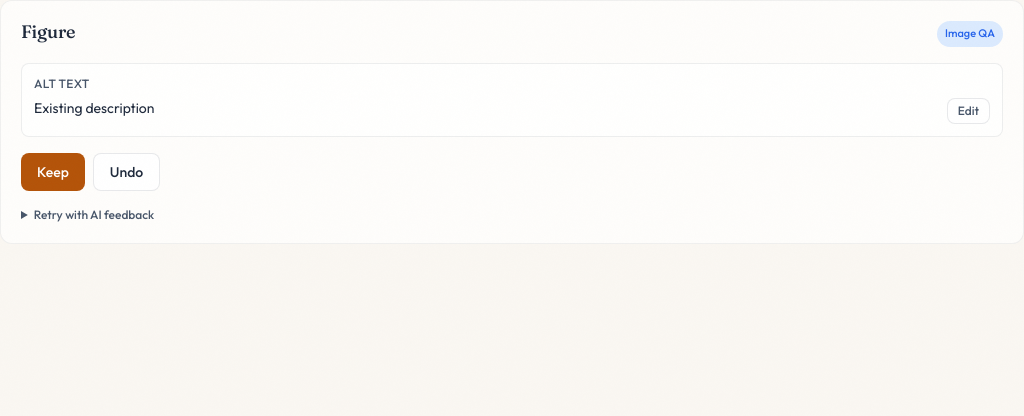
Test case: editing › retains a draft on record refresh and refuses to save it against another revision
The width and height of the screenshot is (1024, 416).
Click the button "Edit" at [968, 111], box top-left (947, 98), bottom-right (990, 124)
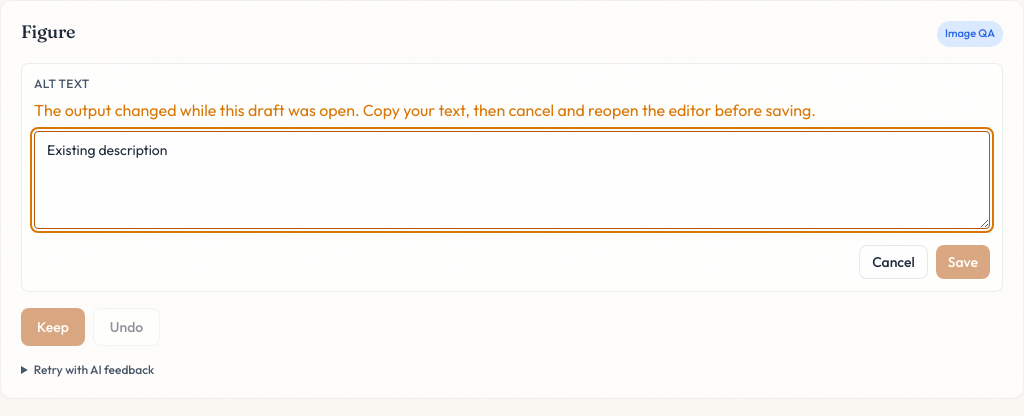
expect the text box holds "Existing description": met, box top-left (34, 131), bottom-right (990, 229)
expect the button "Save" is disabled: met, box top-left (936, 245), bottom-right (990, 279)
expect the message is shown: met, box top-left (34, 100), bottom-right (816, 120)
